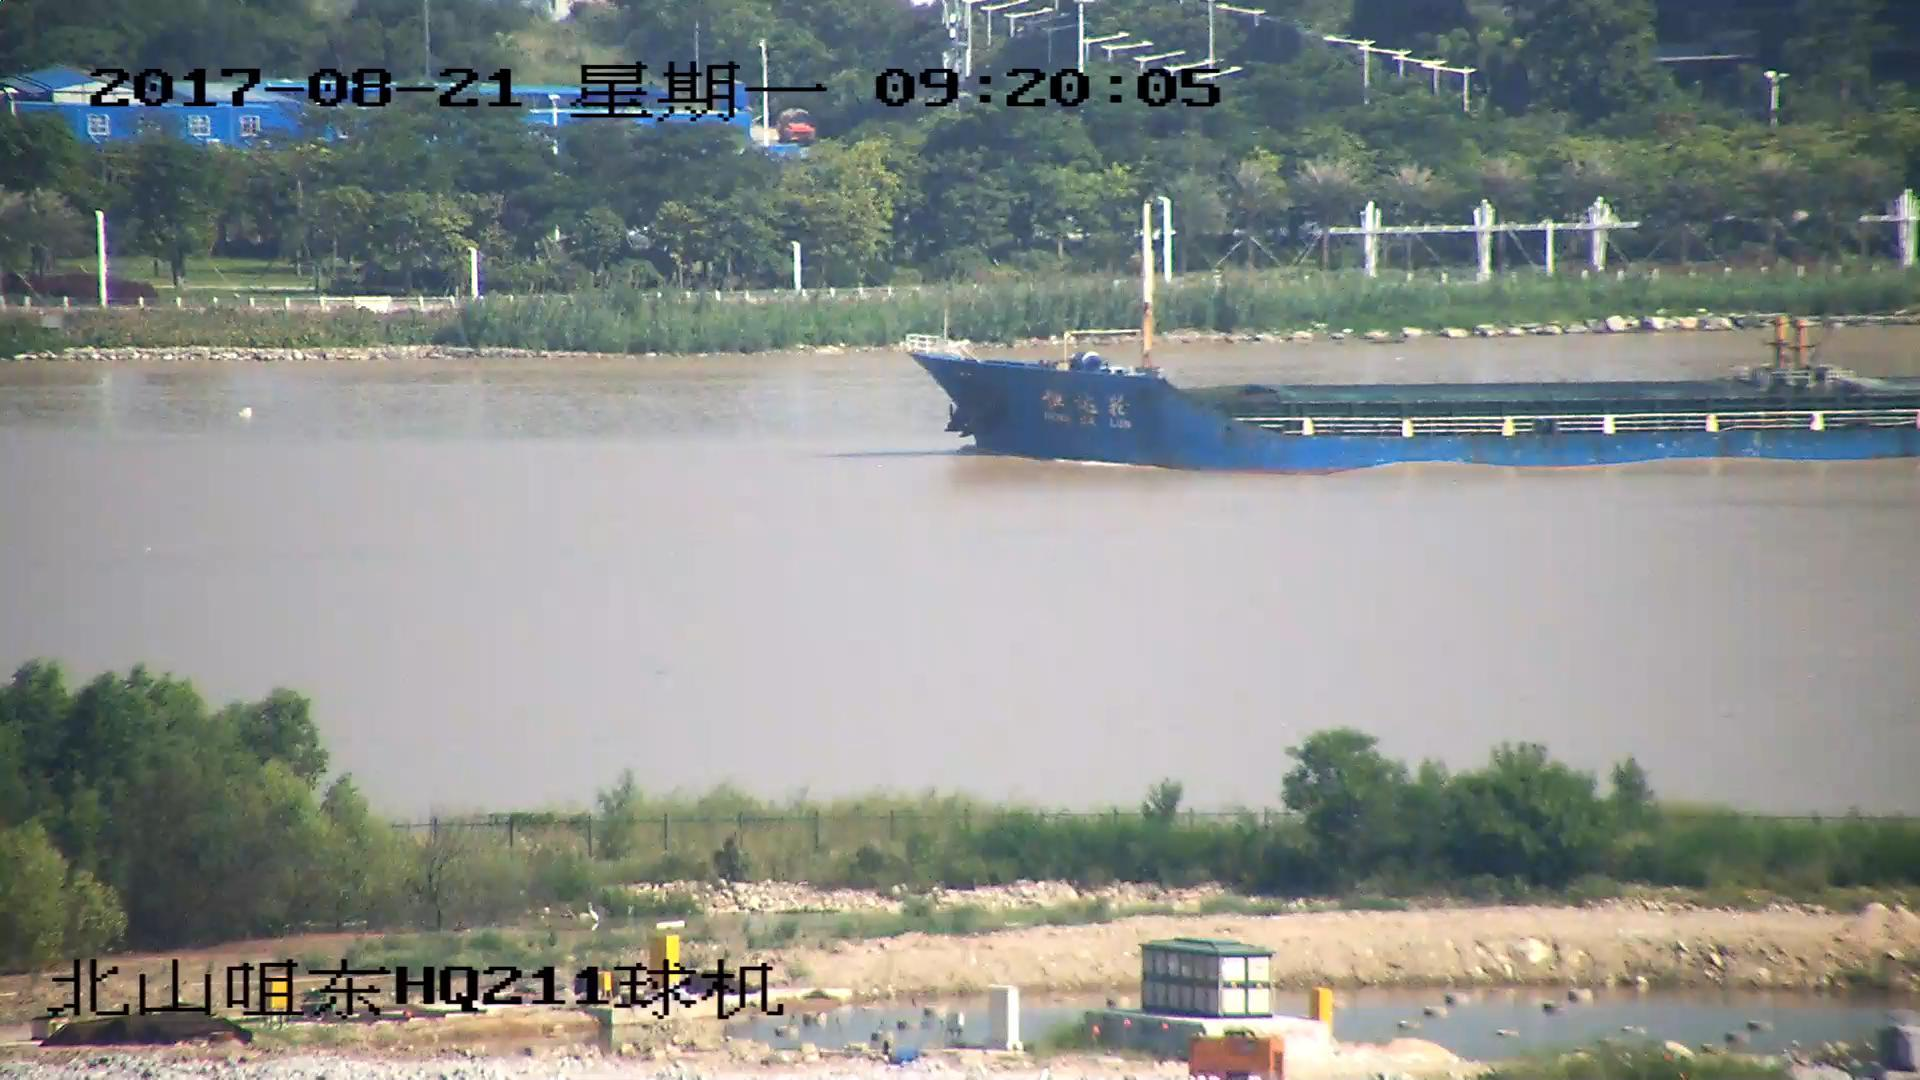Ship: (899, 212, 1920, 472)
